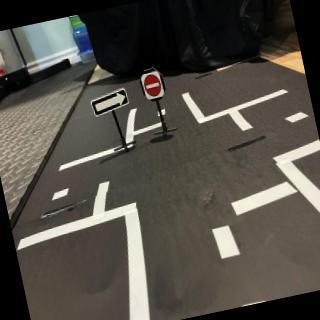sign_noentry: (139, 68, 168, 104)
sign_oneway_right: (90, 85, 134, 120)
